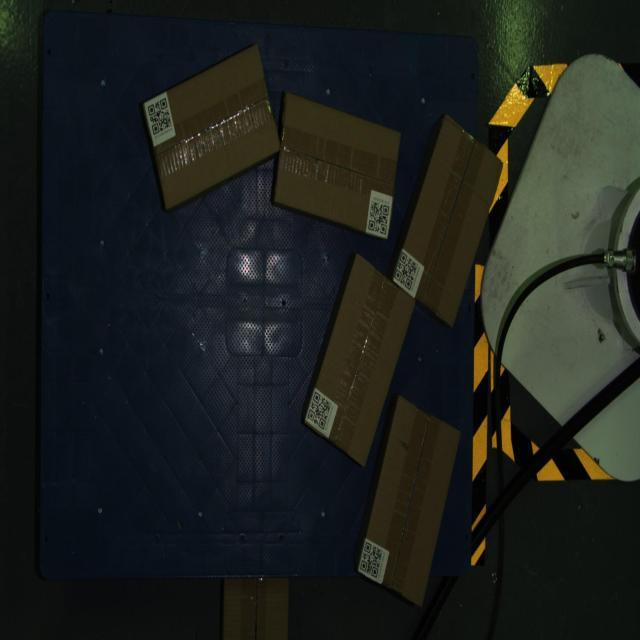box: (392, 113, 504, 328), (304, 253, 416, 467), (143, 43, 281, 210), (358, 395, 461, 608), (274, 93, 402, 239)
